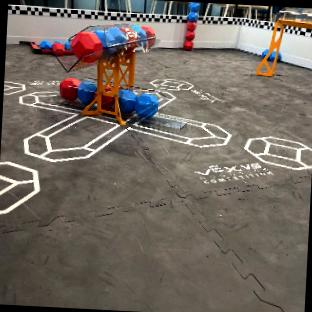Goal: (55, 23, 157, 124), (256, 8, 312, 76)
Parking-R: (30, 42, 52, 53)
V5_BLUE: (118, 89, 157, 117), (77, 81, 96, 104), (187, 2, 198, 20), (39, 41, 51, 48), (262, 49, 267, 56)
V5_RED: (71, 31, 103, 58), (60, 77, 79, 99), (143, 26, 153, 46), (186, 21, 196, 38), (183, 39, 192, 48)
redingoal: (82, 51, 99, 62)
